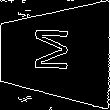M_W: (34, 31, 75, 77)
